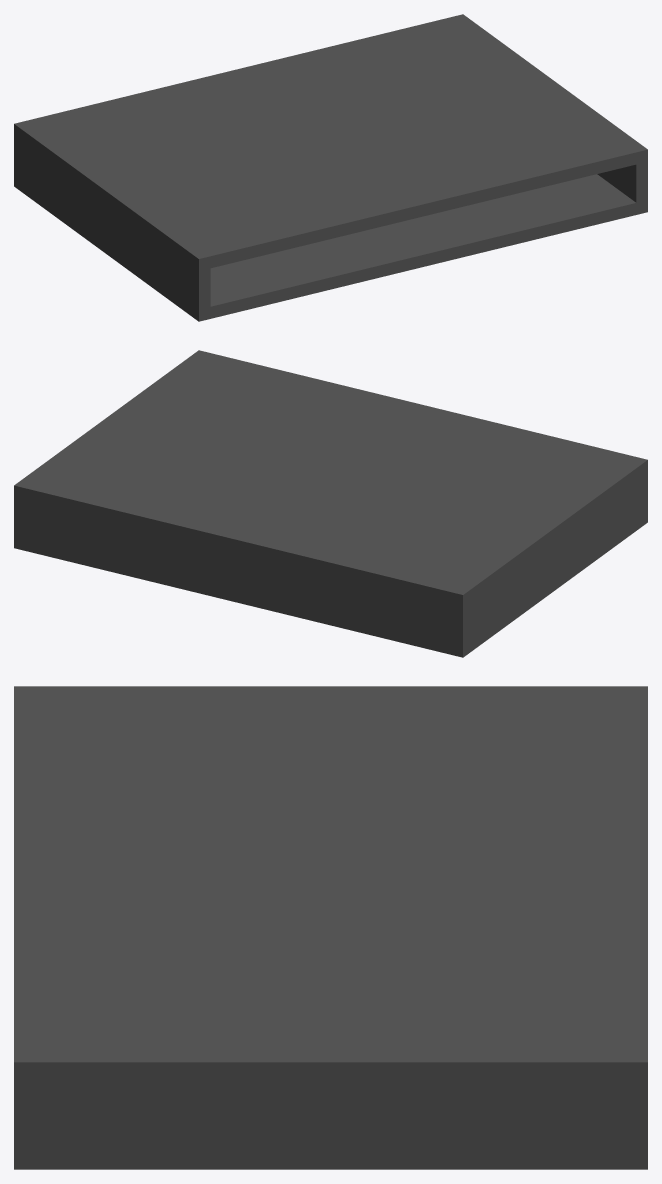
File: Hood1_C1_01.fbx
The picture shows the model from 3 angles, top to bottom: view 1: azimuth 30°, elevation 25°; view 2: azimuth 150°, elevation 25°; view 3: azimuth 270°, elevation 25°; orthographic projection. The views are drawn at different scales.
Parts seen in each view (by area): view 1: Hood1_C1_01; view 2: Hood1_C1_01; view 3: Hood1_C1_01.
Boxes of the visible parts, x1,y1,x2,y2 form: Hood1_C1_01: (14, 14, 647, 321); Hood1_C1_01: (14, 350, 647, 657); Hood1_C1_01: (14, 686, 647, 1169).
Bounding box in the file's own units: 60 × 8.27 × 42.78.
